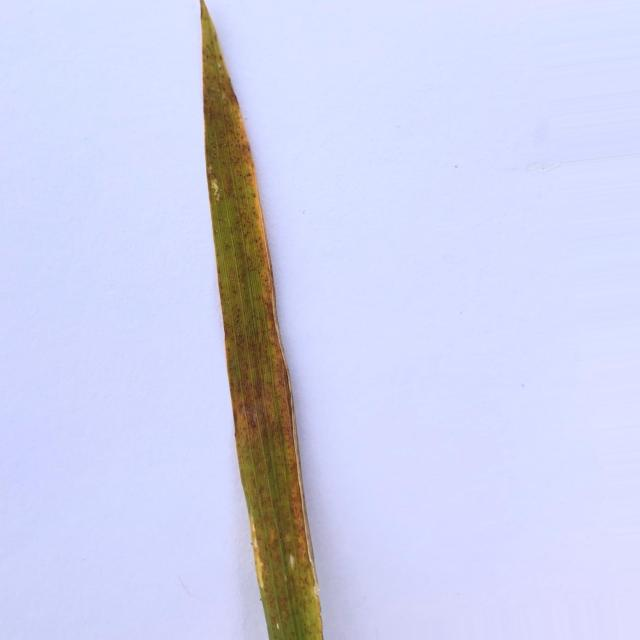Rice Tungro: (200, 0, 323, 640)
